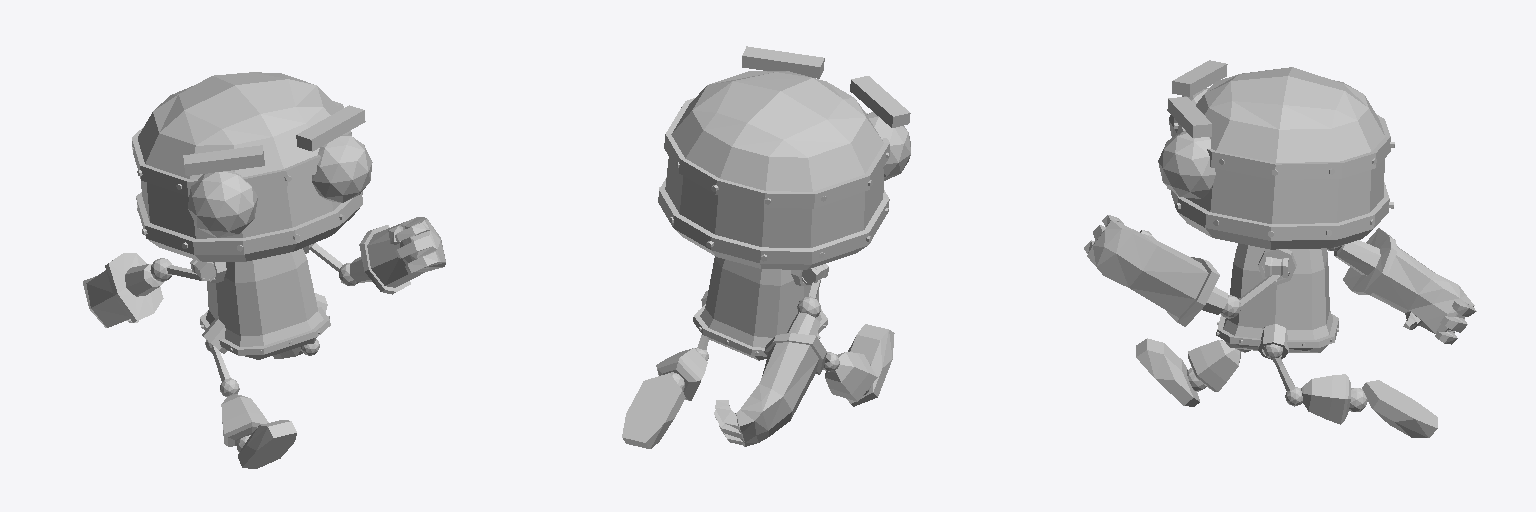
File: Robot_000011.obj
3 renders of one model, left to right at view 1: azimuth 30°, elevation 25°; view 2: azimuth 150°, elevation 25°; view 3: azimuth 270°, elevation 25°, orthographic.
Visible parts, largest first — view 1: Head_Cylinder, Torso_Cube.001, Hand.L_Cylinder.022, Hand.R_Cylinder.015, Foot.R_Cylinder.017, LowerLeg.R_Cylinder.018, Arm.R_Cylinder.013, Arm.L_Cylinder.010, Leg.R_Cylinder.019; view 2: Head_Cylinder, Torso_Cube.001, Hand.R_Cylinder.015, Foot.L_Cylinder.014, Foot.R_Cylinder.017, LowerLeg.R_Cylinder.018, LowerLeg.L_Cylinder.012; view 3: Head_Cylinder, Torso_Cube.001, Hand.L_Cylinder.022, Hand.R_Cylinder.015, Foot.L_Cylinder.014, LowerLeg.L_Cylinder.012, Foot.R_Cylinder.017, LowerLeg.R_Cylinder.018, Arm.L_Cylinder.010, Leg.L_Cylinder.011.
Boxes of the visible parts, box(x1,y1,x2,y2) form: Head_Cylinder: box(132, 72, 372, 261); Torso_Cube.001: box(200, 246, 330, 359); Hand.L_Cylinder.022: box(350, 217, 445, 294); Hand.R_Cylinder.015: box(83, 253, 164, 327); Foot.R_Cylinder.017: box(238, 420, 296, 468); LowerLeg.R_Cylinder.018: box(221, 394, 268, 452); Arm.R_Cylinder.013: box(150, 258, 203, 281); Arm.L_Cylinder.010: box(309, 243, 358, 285); Leg.R_Cylinder.019: box(210, 345, 239, 396); Head_Cylinder: box(658, 46, 910, 269); Torso_Cube.001: box(693, 256, 827, 360); Hand.R_Cylinder.015: box(714, 312, 826, 446); Foot.L_Cylinder.014: box(622, 373, 685, 448); Foot.R_Cylinder.017: box(847, 324, 894, 406); LowerLeg.R_Cylinder.018: box(825, 352, 877, 401); LowerLeg.L_Cylinder.012: box(656, 348, 707, 400); Head_Cylinder: box(1158, 60, 1394, 249); Torso_Cube.001: box(1216, 243, 1338, 359); Hand.L_Cylinder.022: box(1084, 215, 1227, 326); Hand.R_Cylinder.015: box(1334, 228, 1476, 344); Foot.L_Cylinder.014: box(1362, 380, 1437, 437); LowerLeg.L_Cylinder.012: box(1301, 374, 1367, 424); Foot.R_Cylinder.017: box(1136, 338, 1199, 406); LowerLeg.R_Cylinder.018: box(1187, 340, 1240, 391); Arm.L_Cylinder.010: box(1220, 275, 1279, 318); Leg.L_Cylinder.011: box(1272, 357, 1302, 406).
Size of the model in its own units: 2.85 by 4.23 by 4.39.